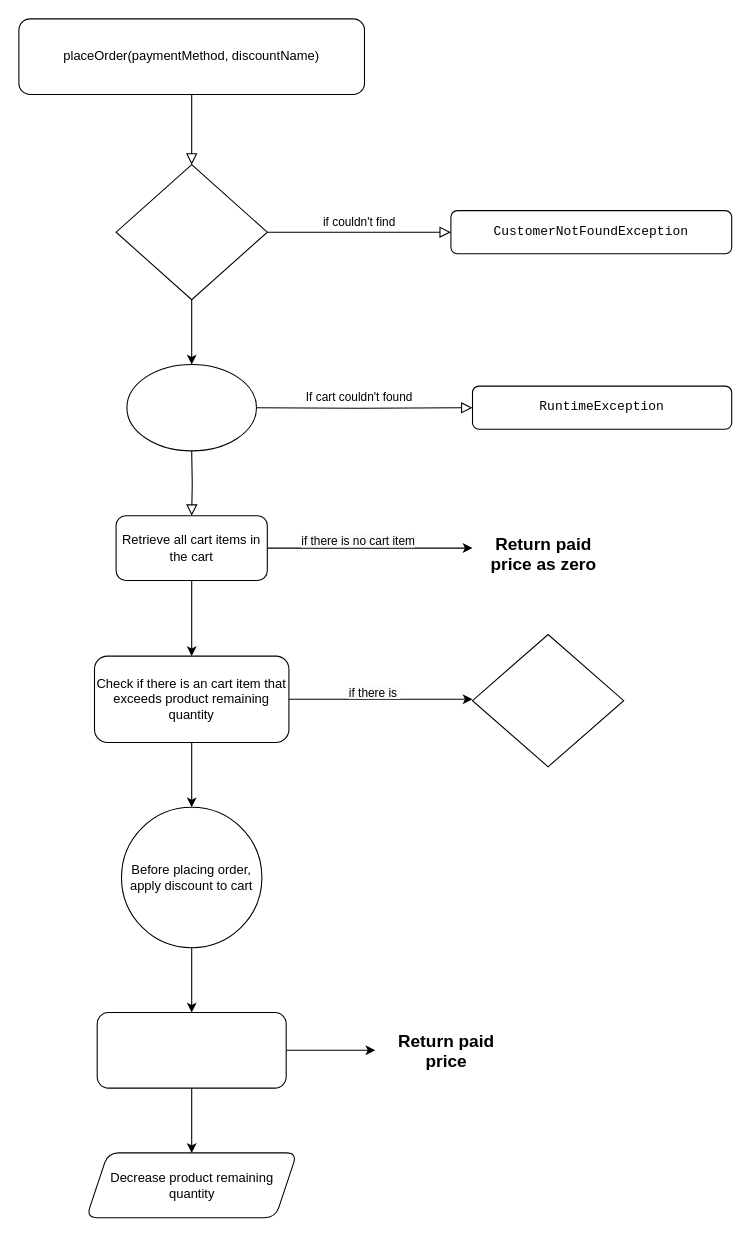
Some shapes in this 751 by 1237 pixel diagram are drawn without their labels. The shapes that lost their labels are listed below. From the top down, each one's box as (x1, y1, x2, y2) in pixels, then its label:
(115, 164, 267, 300): Retrieve current customer by email
(126, 363, 256, 451): Retrieve customer's cart
(471, 633, 624, 767): Remove it from cart
(96, 1011, 286, 1088): If payment method is "credit cart" apply $10 extra discount
